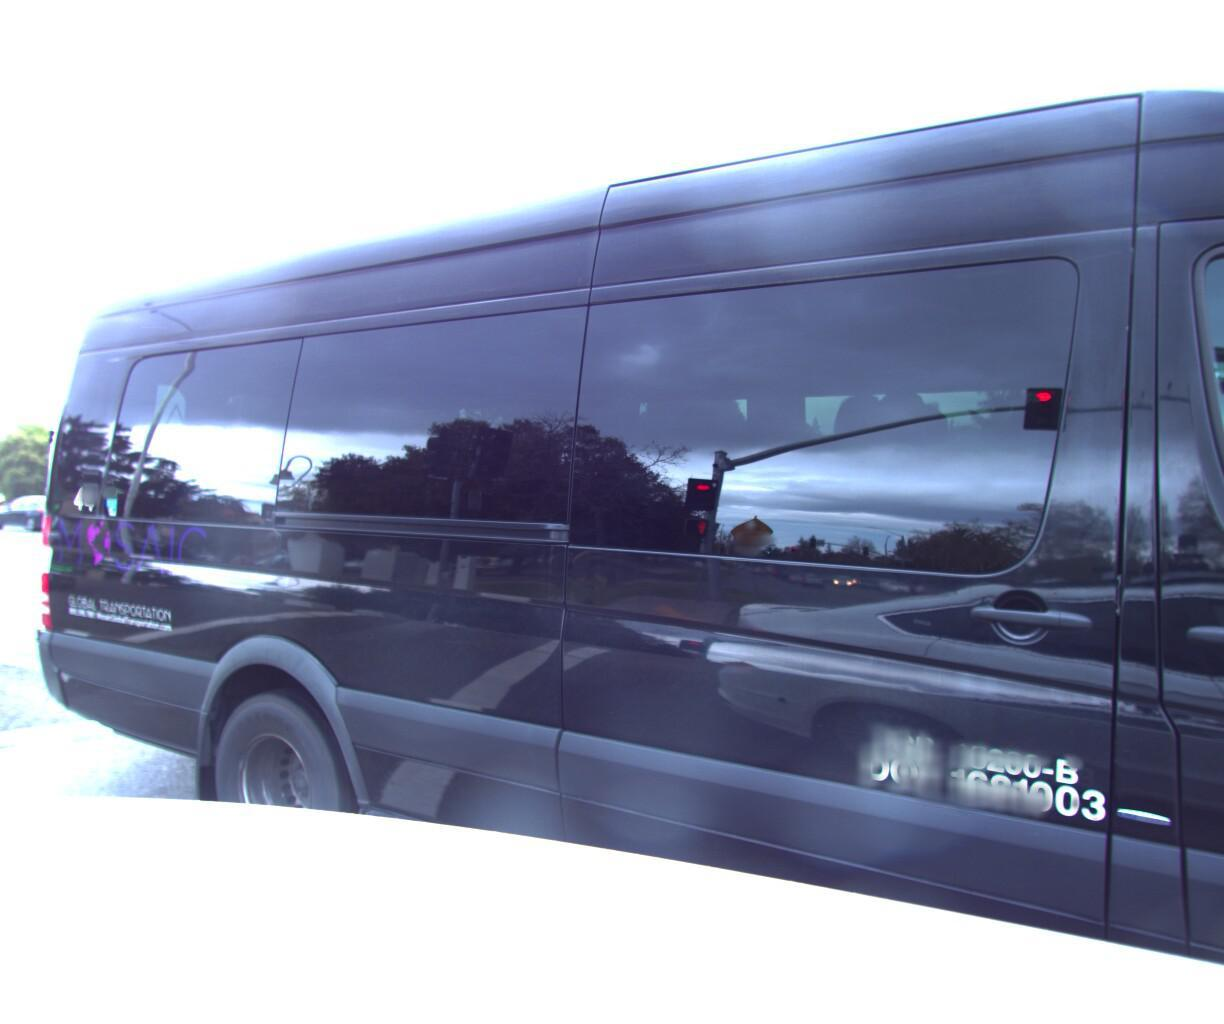car: (0, 498, 94, 537)
other_vehicle: (0, 0, 1224, 1024)
